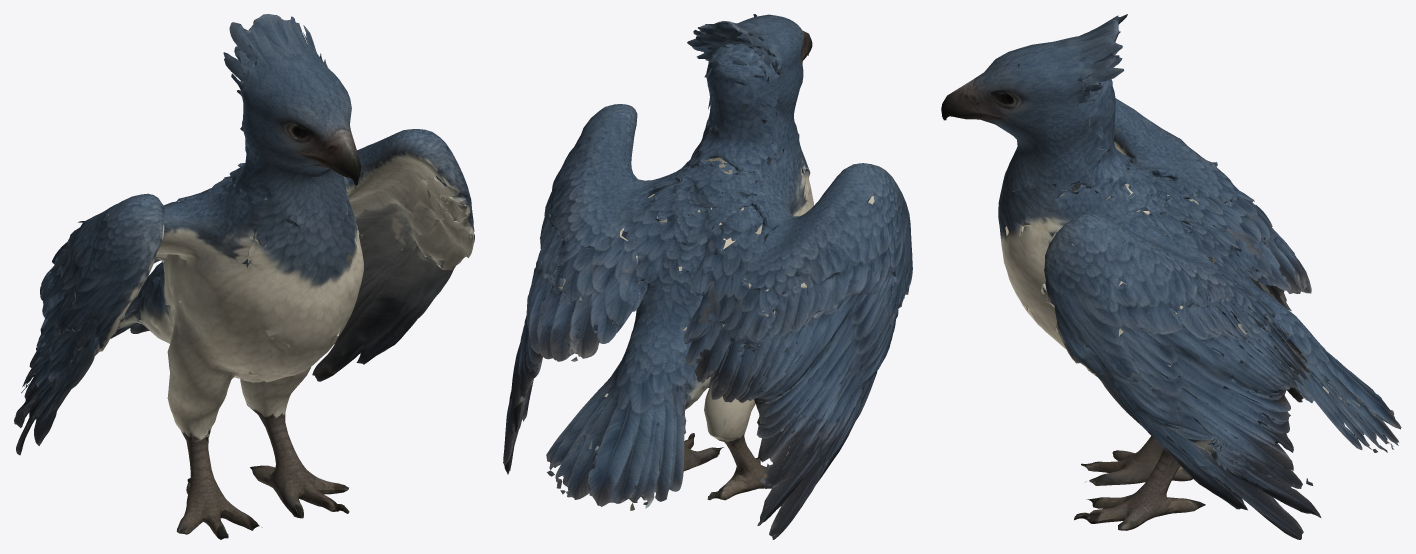
File: pipwing_b2.glb
3 renders of one model, left to right at view 1: azimuth 30°, elevation 25°; view 2: azimuth 150°, elevation 25°; view 3: azimuth 270°, elevation 25°, orthographic. The views are drawn at different scales.
Visible parts, largest first — view 1: Mesh_0; view 2: Mesh_0; view 3: Mesh_0.
Boxes of the visible parts, left/top/right/bottom form: Mesh_0: left=14, top=14, right=474, bottom=539; Mesh_0: left=503, top=14, right=912, bottom=539; Mesh_0: left=941, top=14, right=1401, bottom=539.
Bounding box in the file's own units: 1.54 × 1.86 × 1.64.
Materials: 1 (1 with a texture image).
